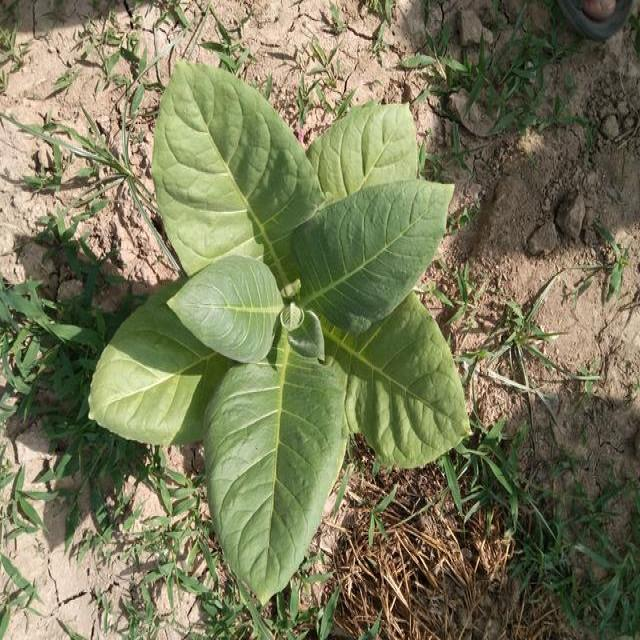crop: (90, 61, 472, 606)
